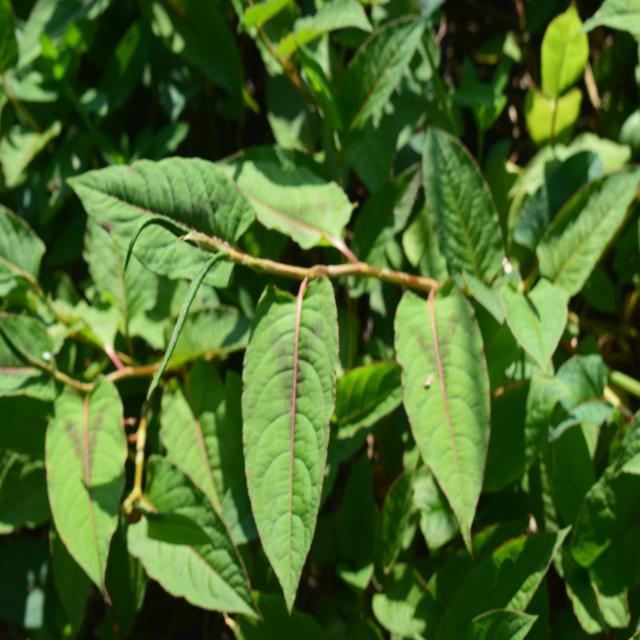Chinese_knotweed: (105, 149, 349, 562)
